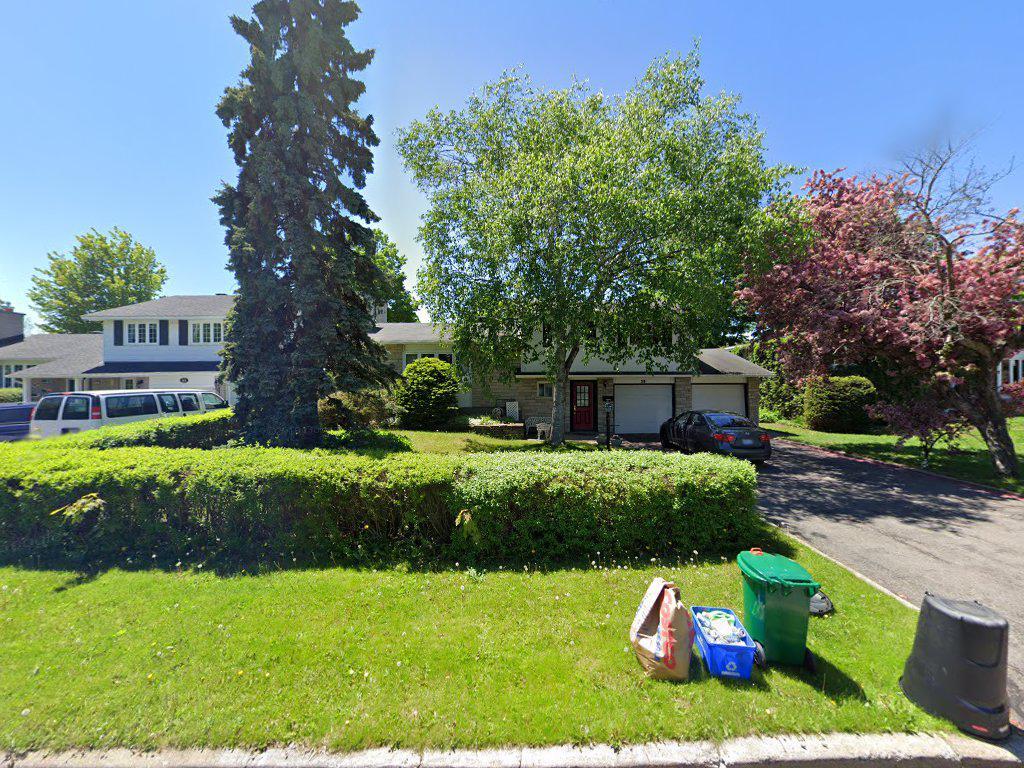trunk: (971, 410, 1020, 481), (548, 357, 571, 449)
